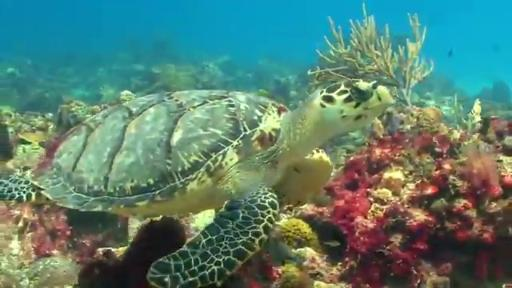Fish: (0, 80, 393, 287)
